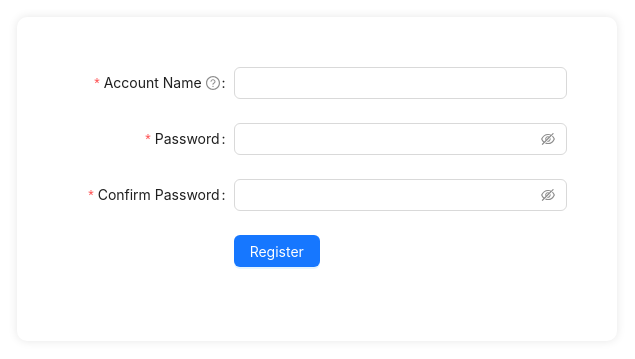
Scenario: Registration › should show error when user click register without any data
Click the button "Register": coordinates (277, 251) [234,235,320,267]
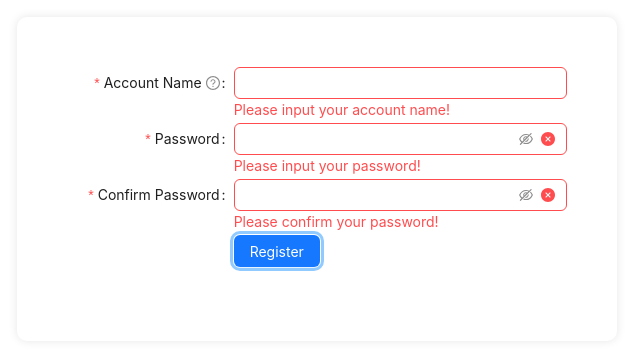
Check: the text "Please input your account name!" is shown, box [234,101,450,118]
Check: the text "Please input your password!" is shown, box [234,157,421,174]
Check: the text "Please confirm your password!" is shown, box [234,213,439,230]
